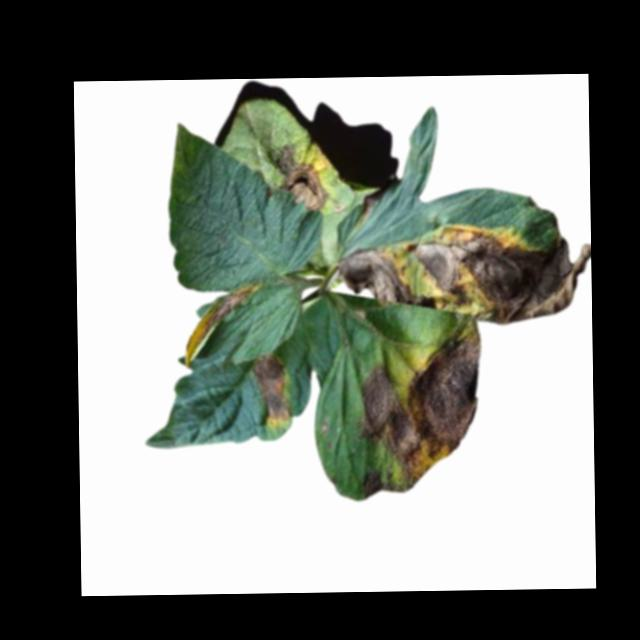Early_blight: (336, 221, 588, 325), (359, 321, 487, 489), (183, 283, 263, 367), (266, 142, 329, 213), (253, 351, 291, 428), (359, 198, 376, 227)
